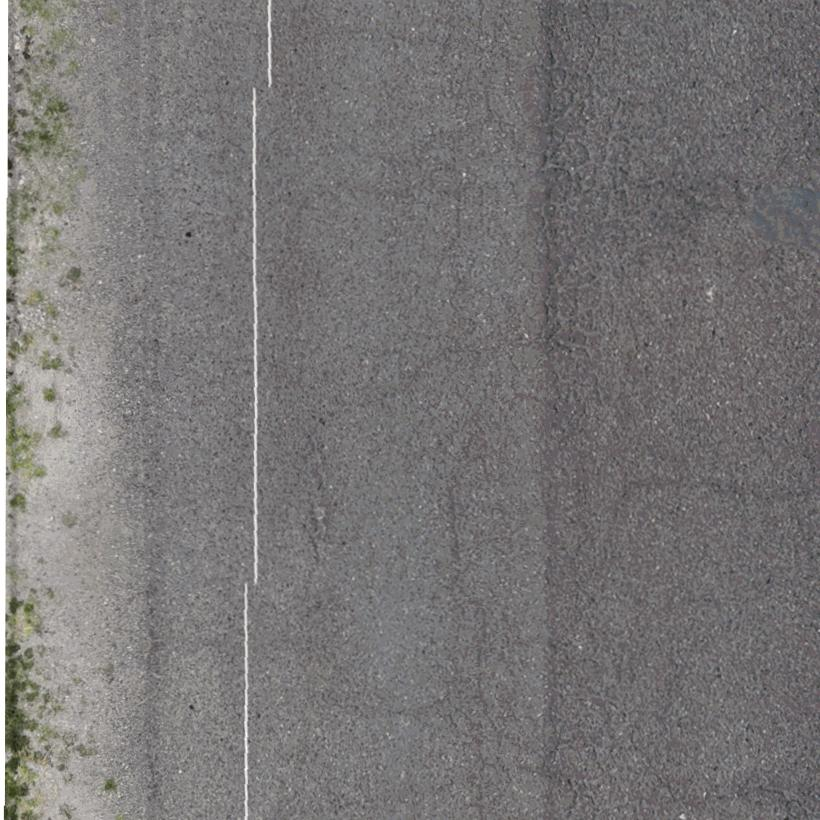GRIETA: (633, 473, 819, 508), (307, 446, 325, 546)
PIEL DE COCODRILO: (532, 0, 753, 453), (547, 570, 819, 819), (392, 0, 540, 355), (399, 589, 527, 819), (408, 387, 532, 576)
